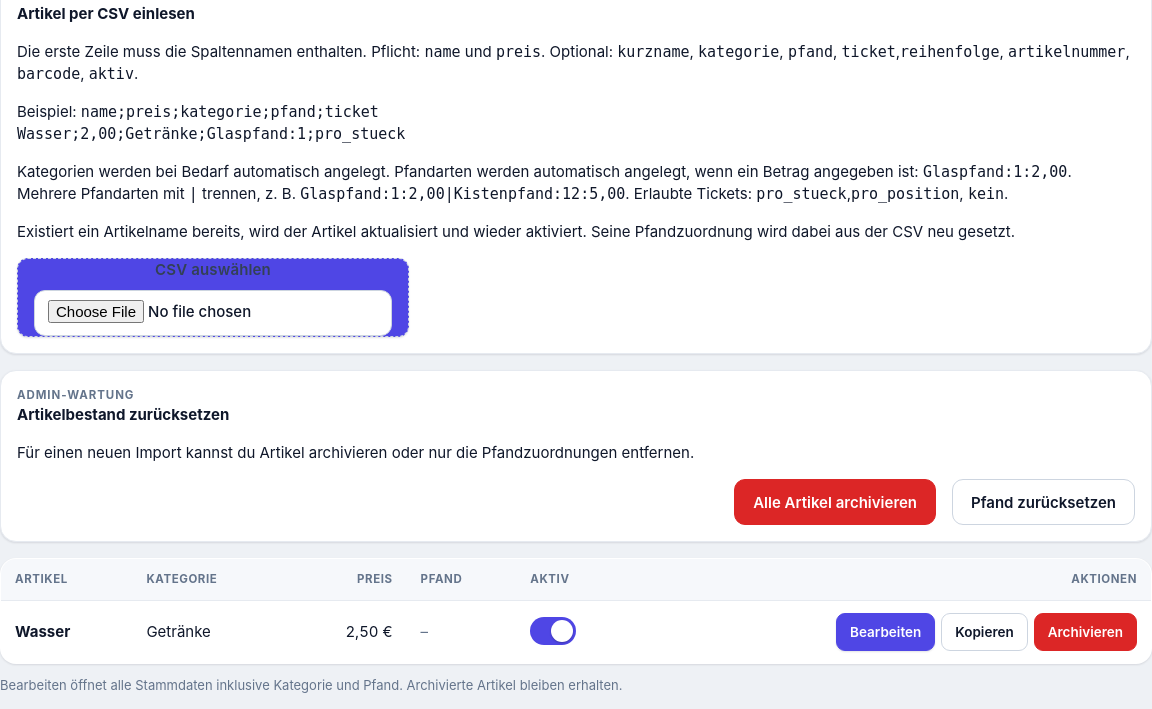
Artikel Component › should display an error in the edit dialog if saving fails
This screenshot has width=1152, height=709.
(page scrolled)
# Open the edit dialog
Click the button "Bearbeiten".
click(886, 632)  # box [836, 613, 935, 651]
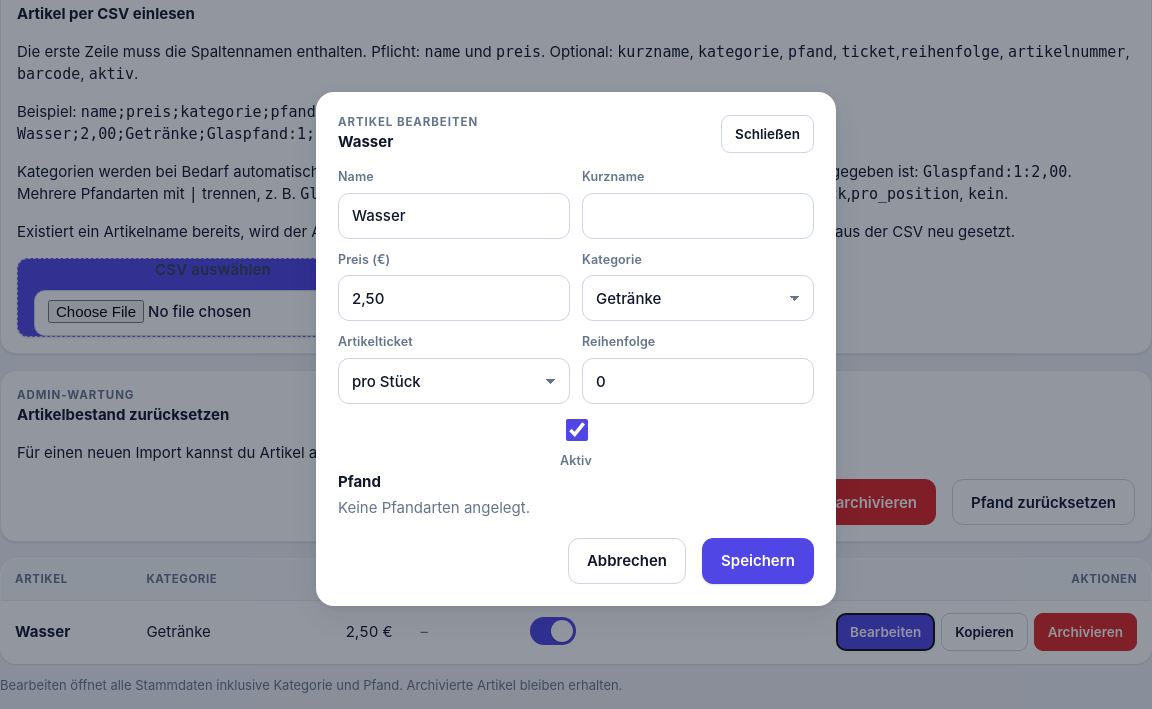
# Try to save
Click the button "Speichern".
click(758, 561)  # box [702, 538, 814, 584]
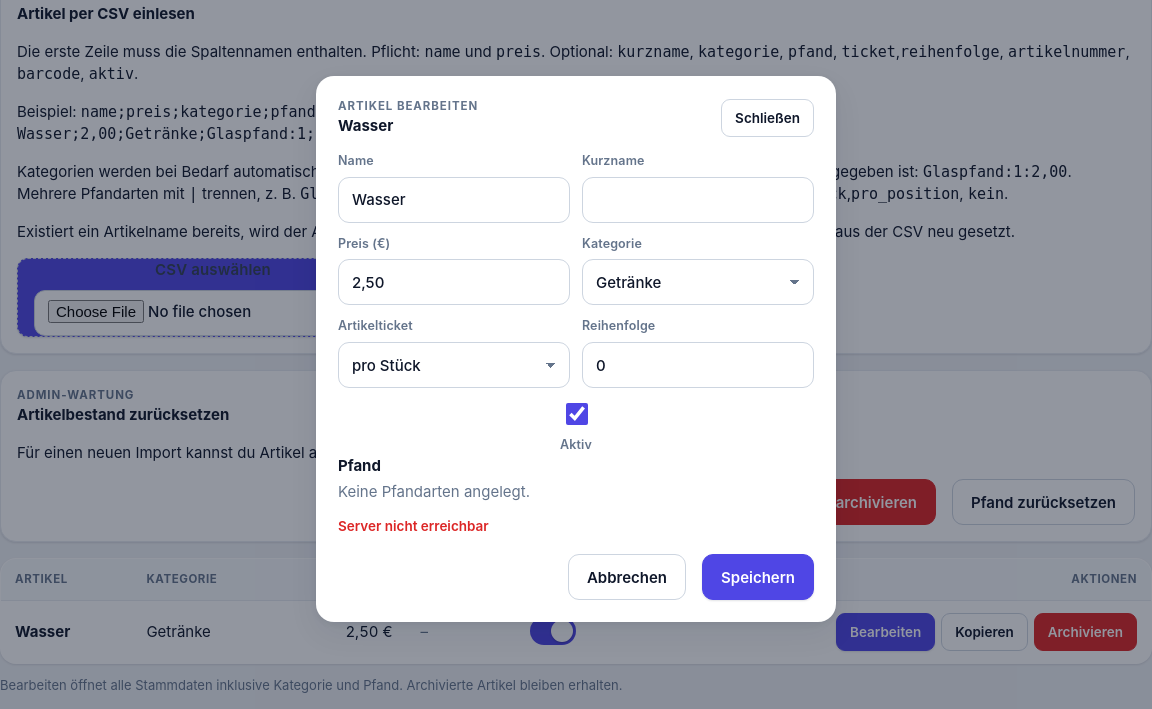
expect the text "Artikel bearbeiten" is shown: met, box [338, 98, 478, 115]
expect the text "Server nicht erreichbar" is shown: met, box [338, 518, 489, 534]
